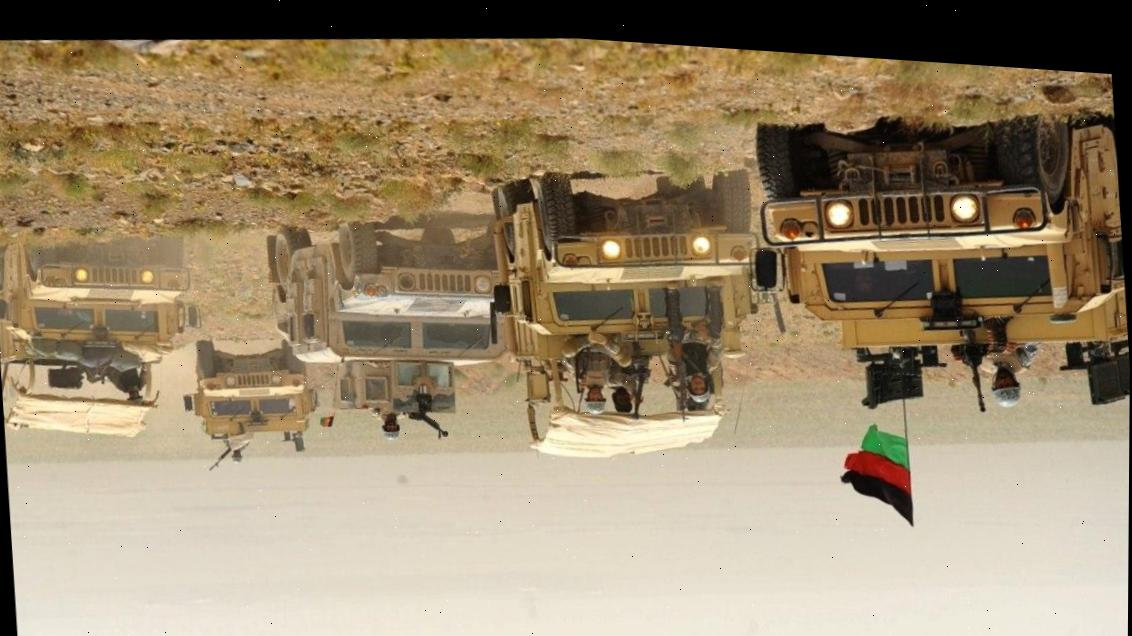armored_car: (731, 89, 1131, 384), (479, 161, 771, 437), (257, 184, 521, 457), (0, 209, 196, 403), (181, 326, 318, 456)
